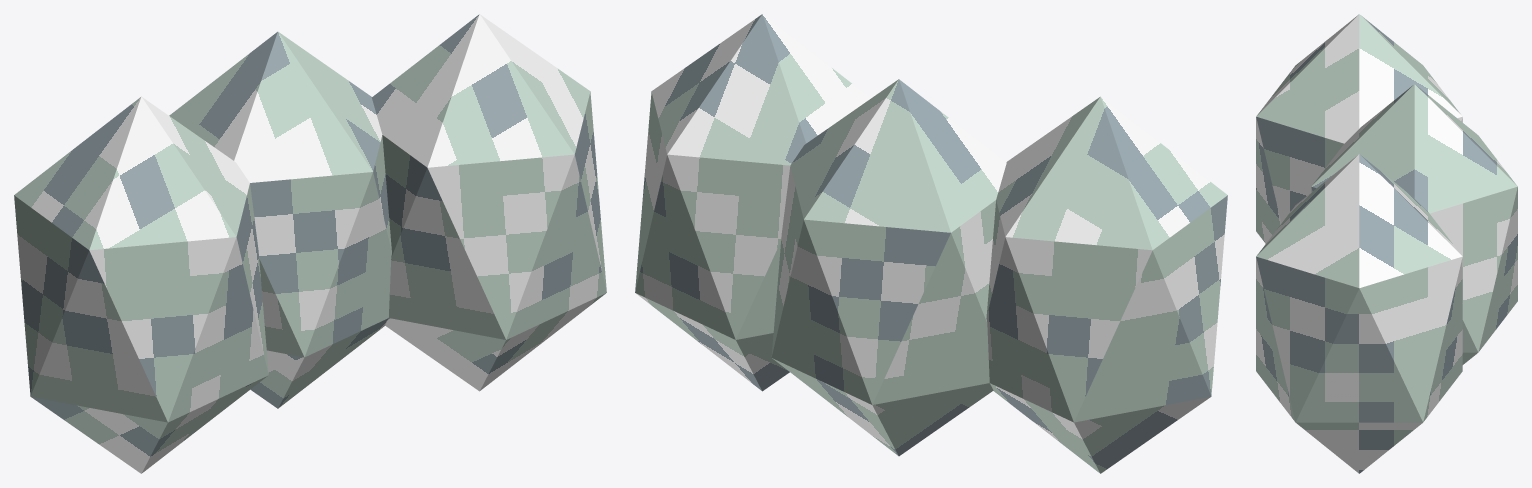
File: a35_ovos.glb
3 renders of one model, left to right at view 1: azimuth 30°, elevation 25°; view 2: azimuth 150°, elevation 25°; view 3: azimuth 270°, elevation 25°, orthographic. The views are drawn at different scales.
Parts seen in each view (by area): view 1: a35_ovos; view 2: a35_ovos; view 3: a35_ovos.
Part boxes in pixels (x1,y1,x2,y2): a35_ovos: (14,14,606,473); a35_ovos: (635,14,1227,473); a35_ovos: (1256,14,1517,473).
Bounding box in the file's own units: 0.9935 × 0.64 × 0.4743.
1 material, 1 textured.
